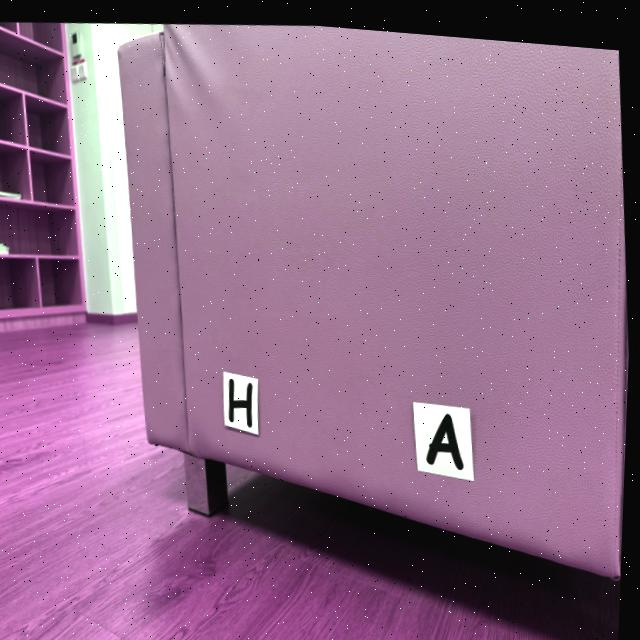A: (429, 405, 467, 462)
H: (231, 374, 255, 423)
